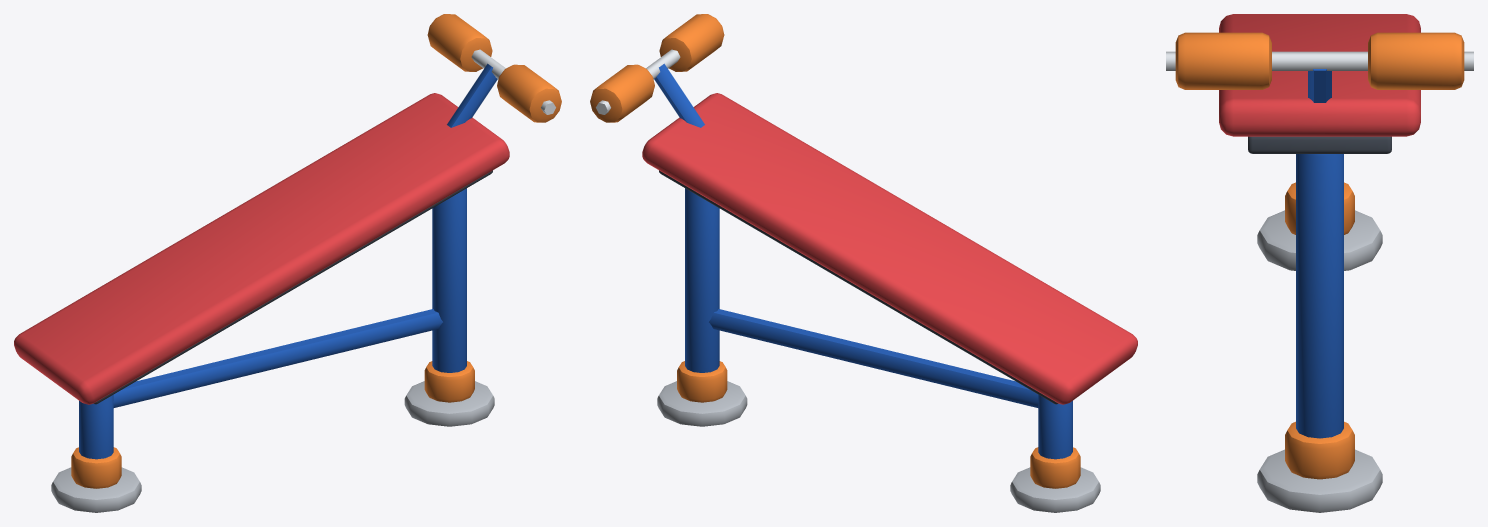
The model's file is academia_abdominal.glb.
3 renders of one model, left to right at view 1: azimuth 30°, elevation 25°; view 2: azimuth 150°, elevation 25°; view 3: azimuth 270°, elevation 25°, orthographic. The views are drawn at different scales.
Parts seen in each view (by area): view 1: academia_abdominal; view 2: academia_abdominal; view 3: academia_abdominal.
Part boxes in pixels (x1,y1,x2,y2): academia_abdominal: [14, 14, 561, 512]; academia_abdominal: [590, 14, 1137, 512]; academia_abdominal: [1166, 14, 1473, 512].
Bounding box in the file's own units: 1.55 × 1.11 × 0.64.
Materials: 1 (1 with a texture image).
